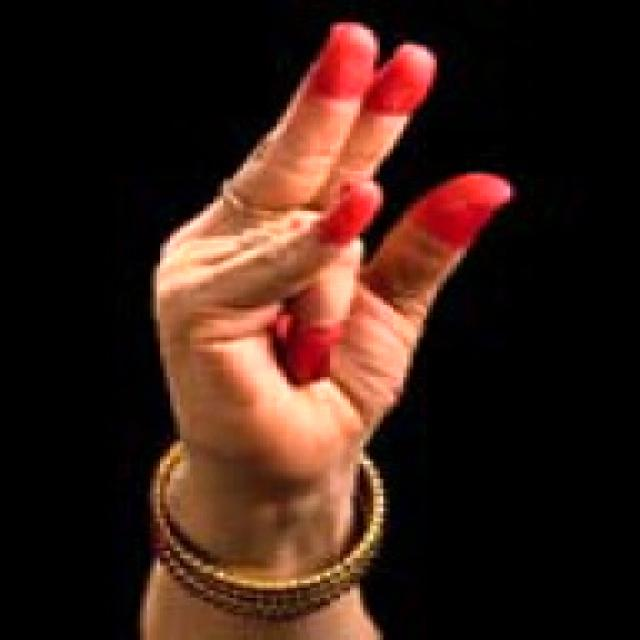Kangula: (145, 9, 545, 474)
